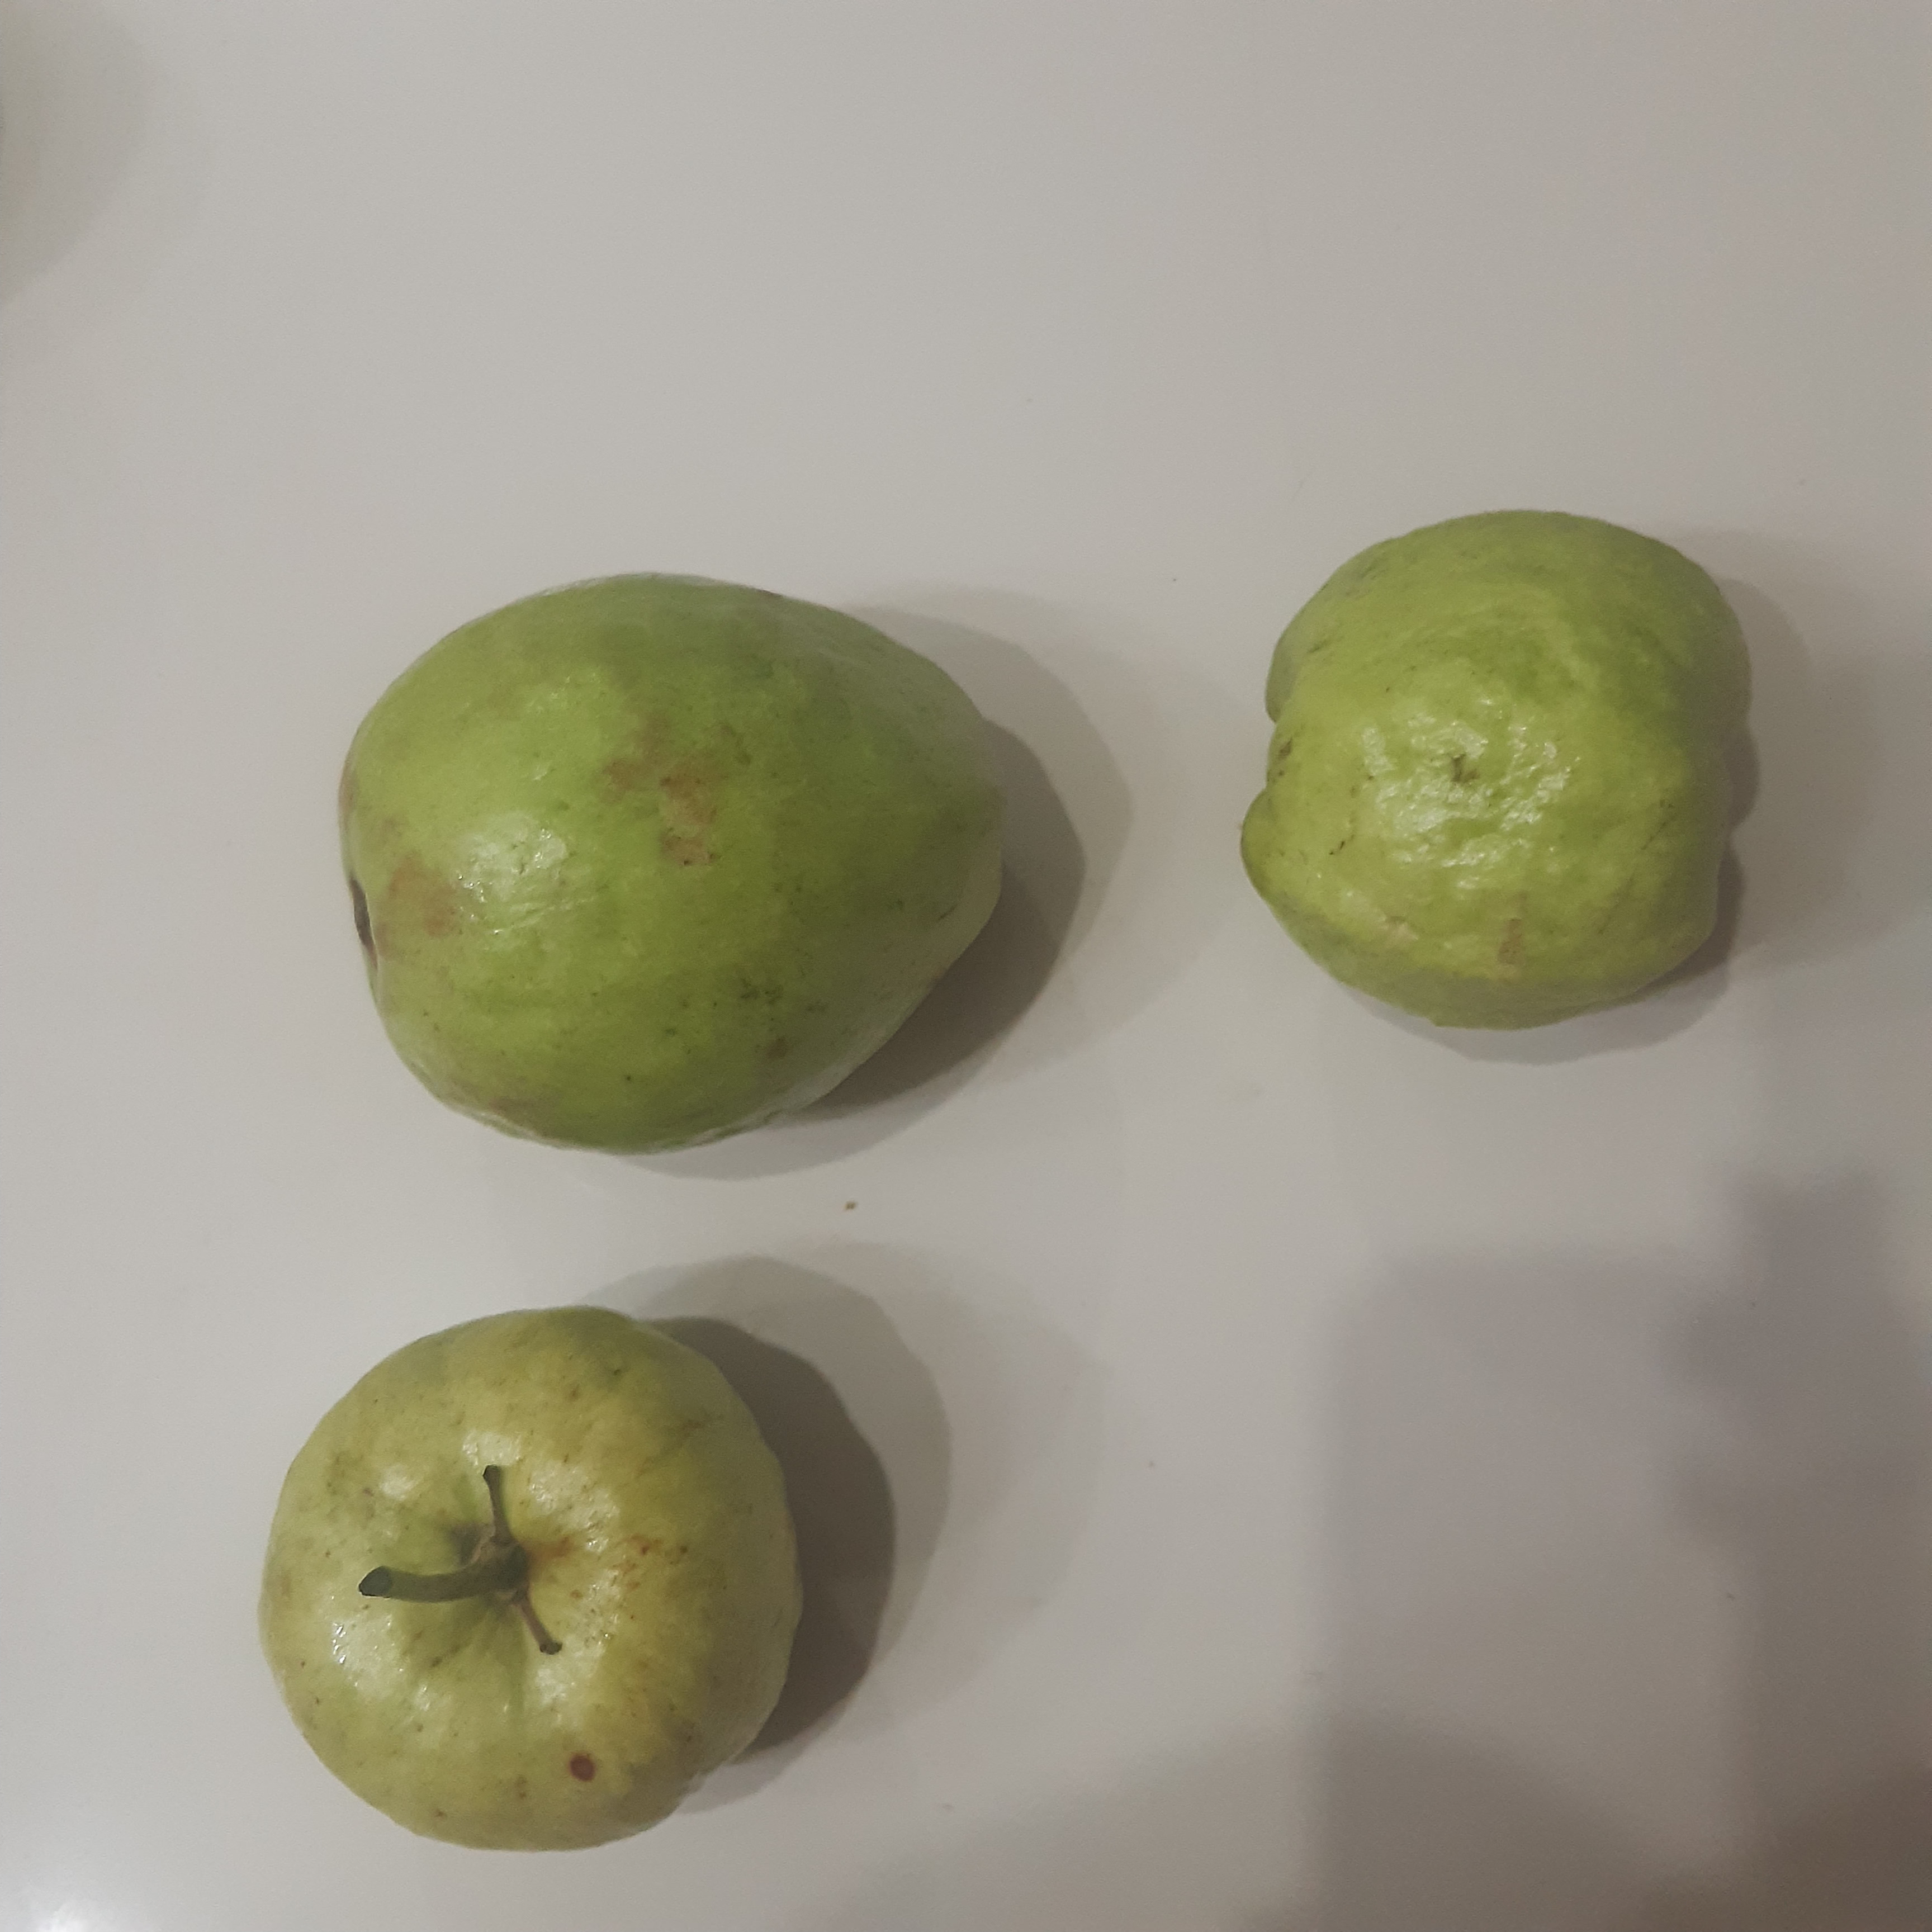Oi: (340, 573, 1010, 1162), (255, 1304, 805, 1858), (1242, 510, 1750, 1035)
